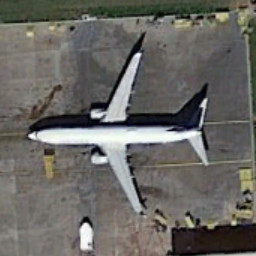Airplane: (18, 41, 223, 221)
